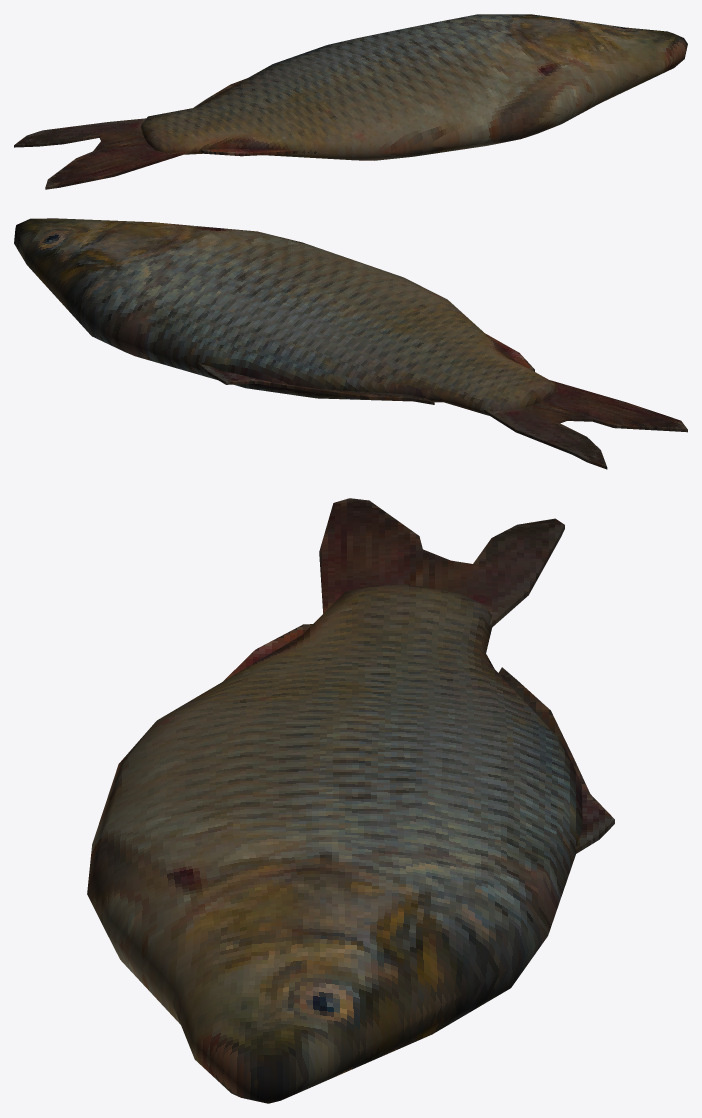
File: fish_mx_1.glb
The picture shows the model from 3 angles, top to bottom: view 1: azimuth 30°, elevation 25°; view 2: azimuth 150°, elevation 25°; view 3: azimuth 270°, elevation 25°; orthographic projection. The views are drawn at different scales.
Parts seen in each view (by area): view 1: fish_mx_1; view 2: fish_mx_1; view 3: fish_mx_1.
Boxes of the visible parts, left/top/right/bottom form: fish_mx_1: left=14, top=14, right=687, bottom=189; fish_mx_1: left=14, top=218, right=687, bottom=469; fish_mx_1: left=87, top=498, right=614, bottom=1103.
Bounding box in the file's own units: 0.5561 × 0.0641 × 0.2052.
1 material, 1 textured.
